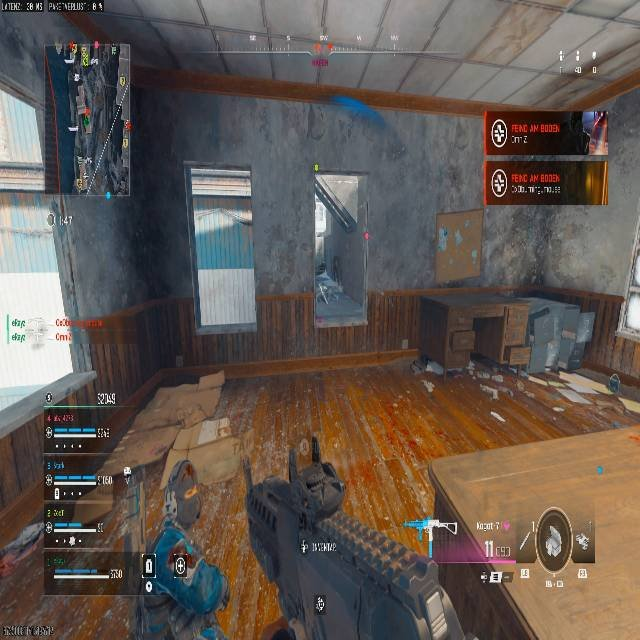player: (314, 259, 330, 305)
